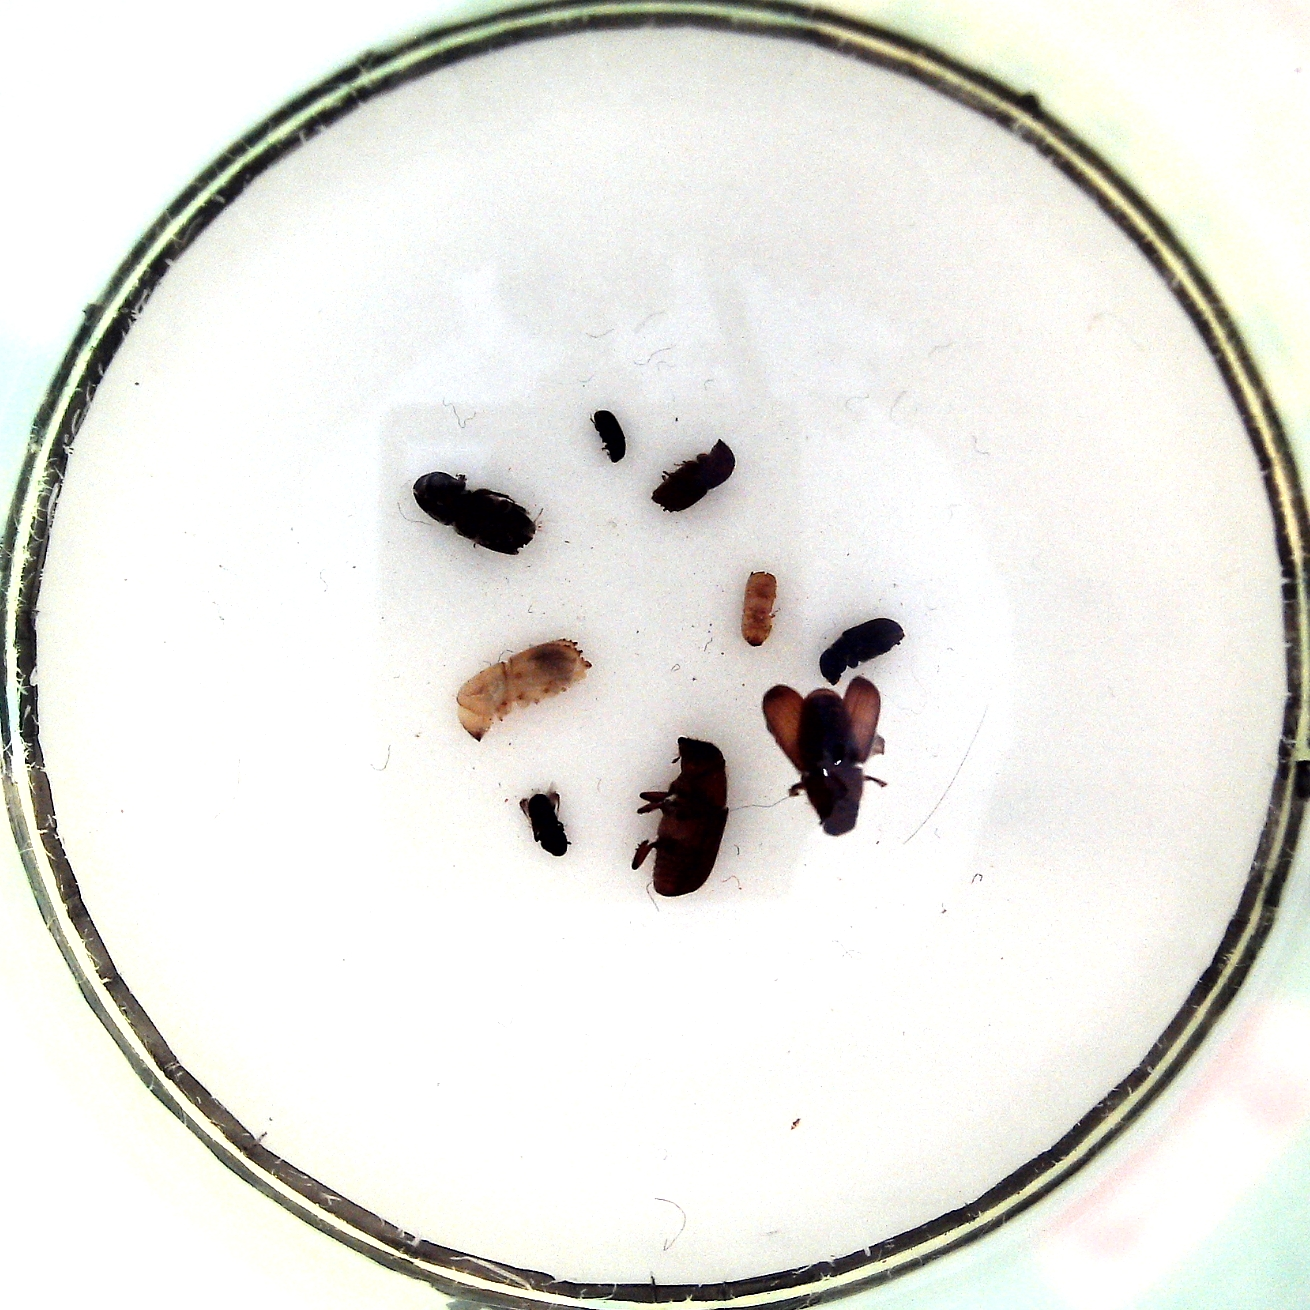Boerner: (450, 632, 596, 745)
Leconte: (757, 677, 896, 843), (626, 729, 734, 899), (404, 465, 543, 555)
Linnaeus: (647, 435, 739, 517)
acuminatus: (732, 563, 785, 648)
armandi: (817, 614, 906, 689)
coleoptera: (516, 779, 577, 863), (588, 402, 633, 465)
